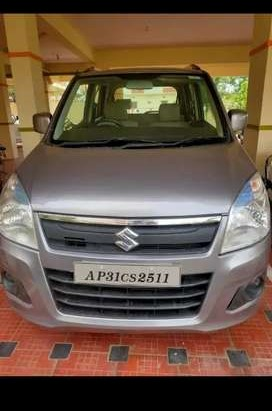AP31CS2511: (74, 262, 180, 287)
